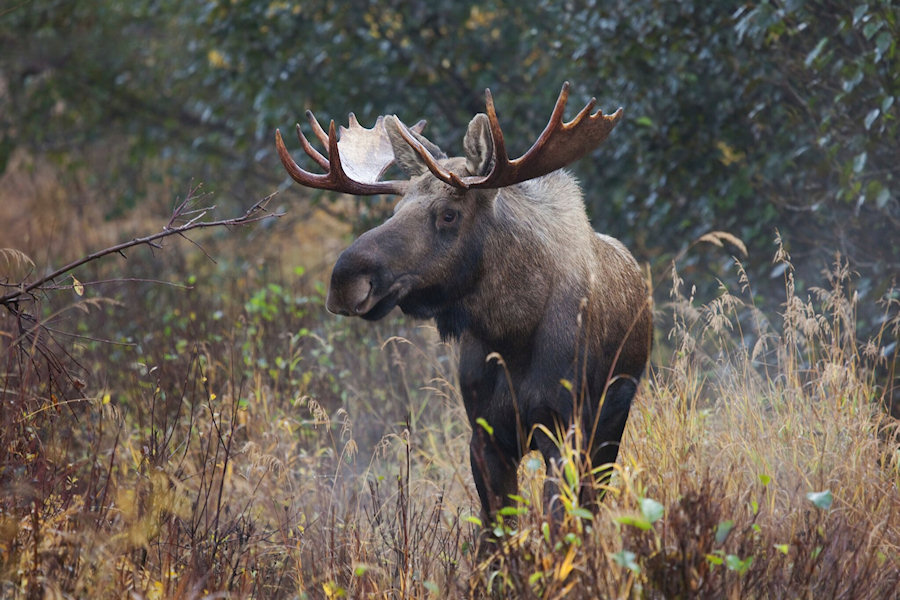moose: (270, 71, 665, 527)
